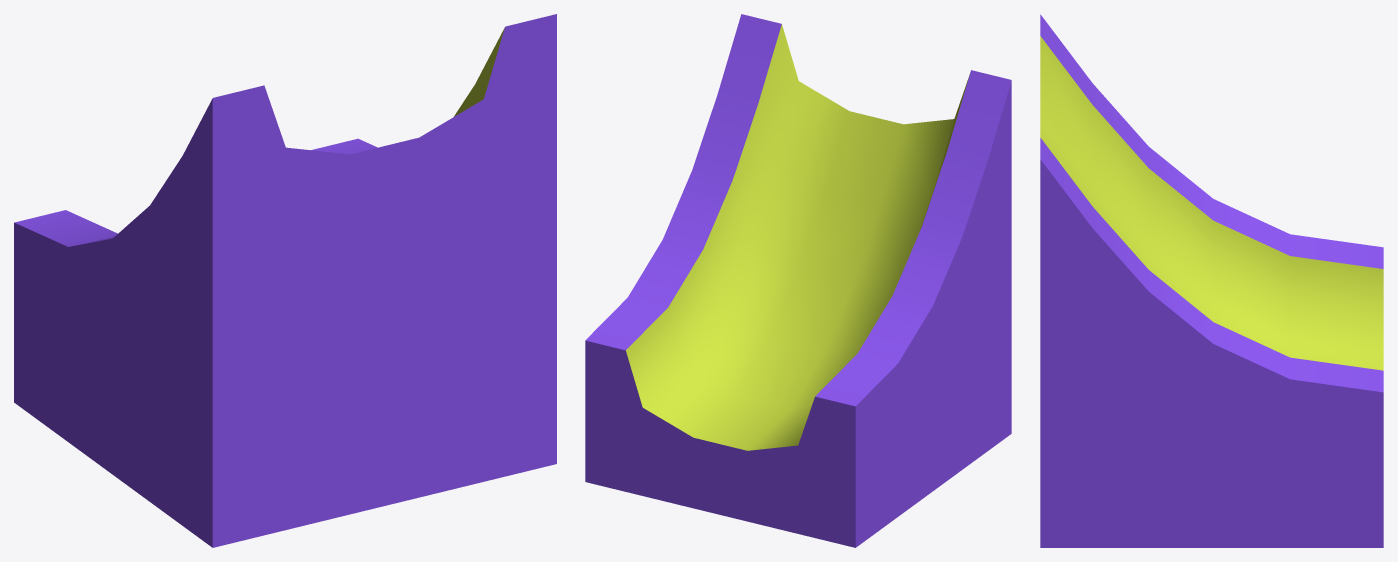
The model's file is rampStart_solid_D.fbx.
3 views of the same model, side by side, from view 1: azimuth 30°, elevation 25°; view 2: azimuth 150°, elevation 25°; view 3: azimuth 270°, elevation 25° (orthographic). The views are drawn at different scales.
Parts seen in each view (by area): view 1: rampStart_solid_D; view 2: rampStart_solid_D; view 3: rampStart_solid_D.
Part boxes in pixels (bbox=[...]): rampStart_solid_D: bbox=[14, 14, 556, 547]; rampStart_solid_D: bbox=[585, 14, 1011, 547]; rampStart_solid_D: bbox=[1040, 14, 1383, 547].
Size of the model in its own units: 10 by 12.5 by 10.
